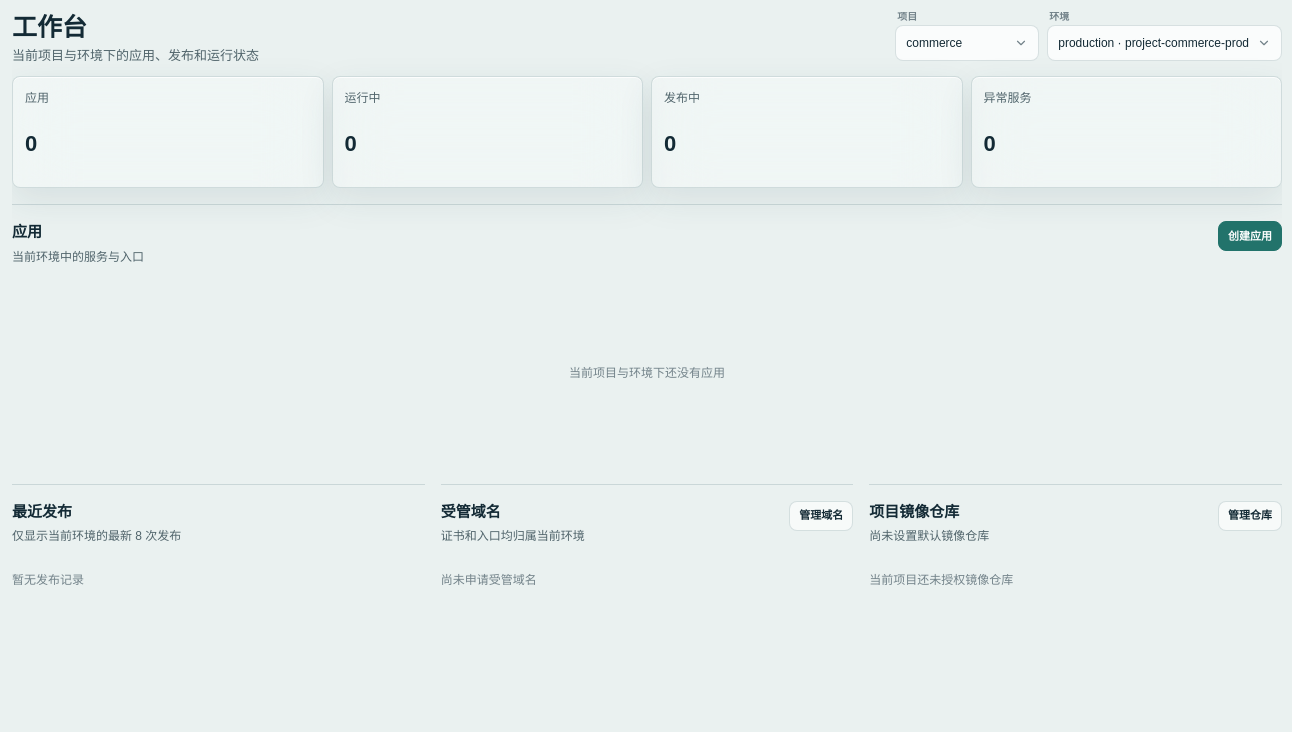
Test: Applications view › uses the shared select menu for the workspace context
Expected: the number of elements with class "workspace-picker" is 2, [895,12,1039,61]; [1047,12,1282,61]
Expected: the button with class "select-menu-trigger" shows "production", [1047,25,1282,61]
Click the button with class "select-menu-trigger" showing "commerce".
click(967, 43)  # box [895,25,1039,61]
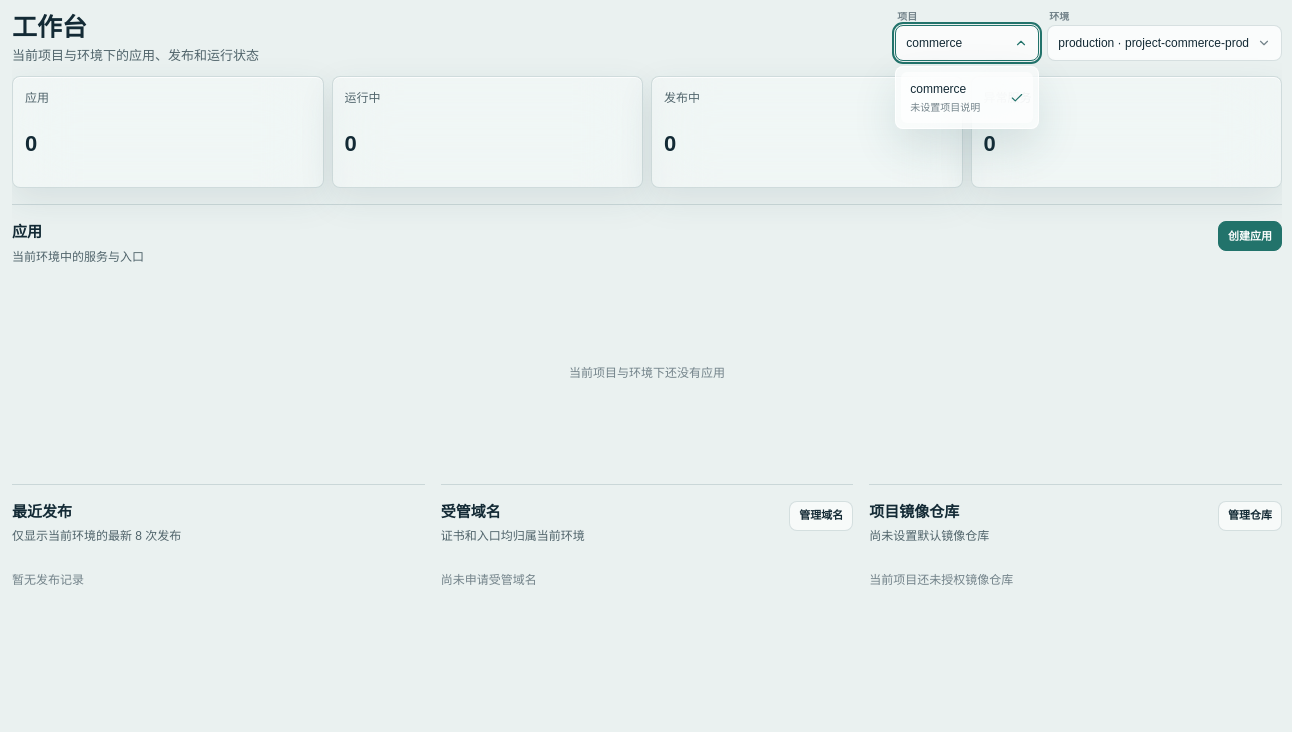
Now the list with class "select-menu-options" shows "commerce", box [901,72,1033,123]
Now the text with class "select-menu-option-description" reads "未设置项目说明", box [910,102,980,113]
Now the option with class "is-selected" shows "commerce", box [901,72,1033,123]
